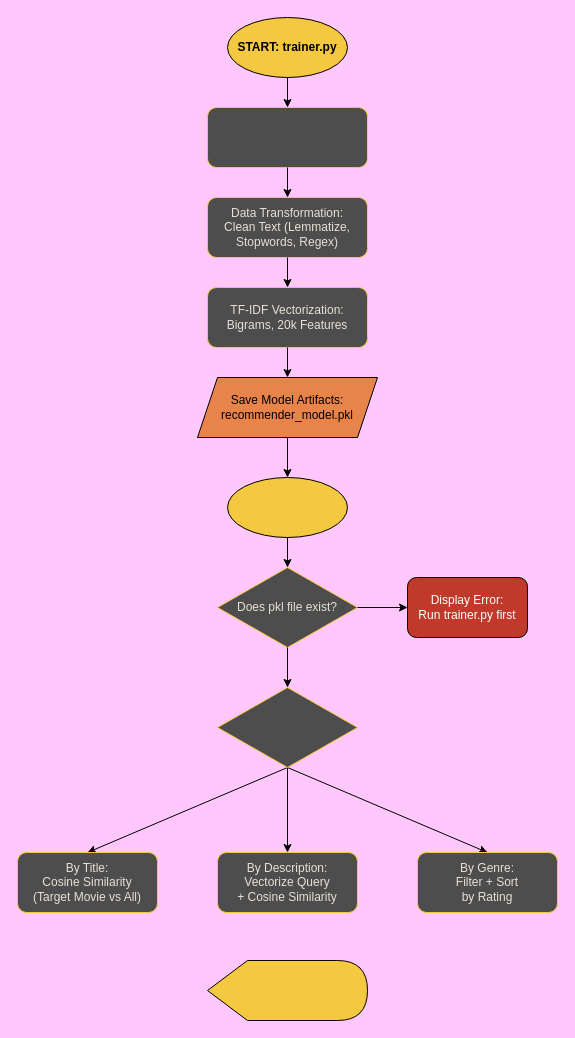
Image size: 575x1038. Some labels were removed from this diagram. Each missing label, with the box of its shape:
Data Ingestion: Load 'jquigl/imdb-genres' from Hugging Face: (206, 106, 368, 168)
Render Movie Cards & Score Charts: (206, 960, 368, 1020)
RUN: app.py (Streamlit): (226, 476, 348, 538)
Select Search Mode: (216, 686, 358, 768)
